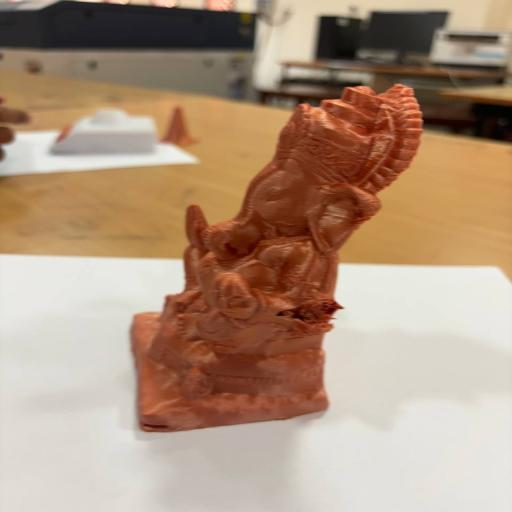cracks: (268, 291, 355, 336), (136, 407, 181, 439)
